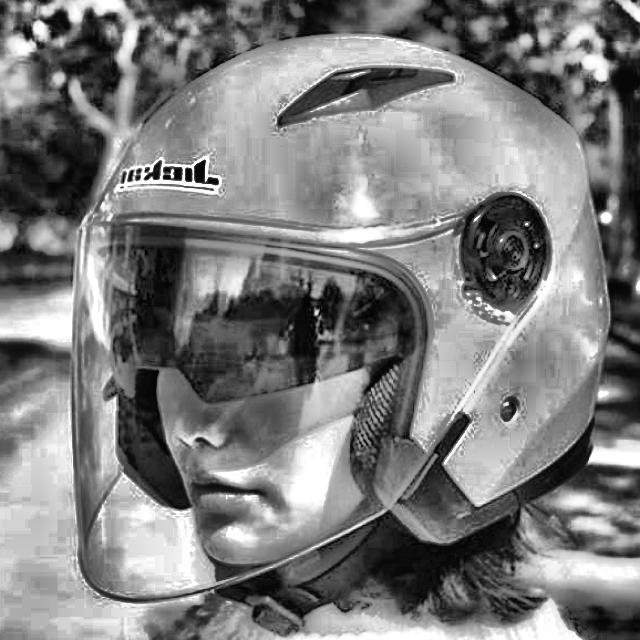Helmet: (55, 26, 620, 636)
